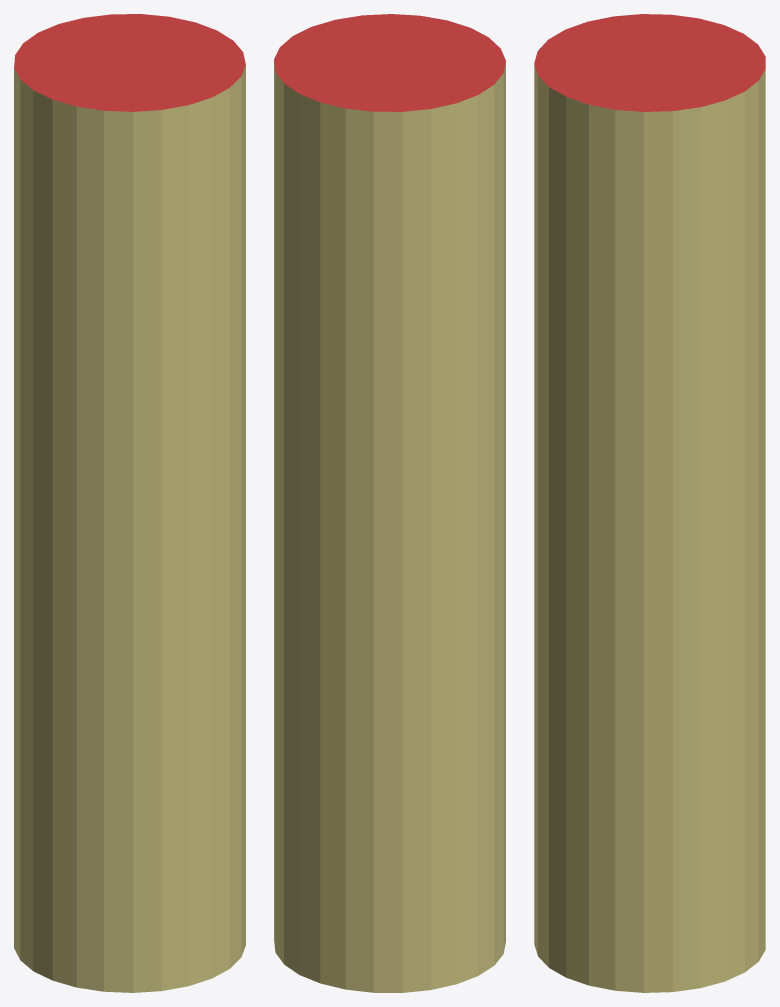
3 views of the same model, side by side, from view 1: azimuth 30°, elevation 25°; view 2: azimuth 150°, elevation 25°; view 3: azimuth 270°, elevation 25° (orthographic).
Bounding box in the file's own units: 2.14 × 2.14 × 8.97.
